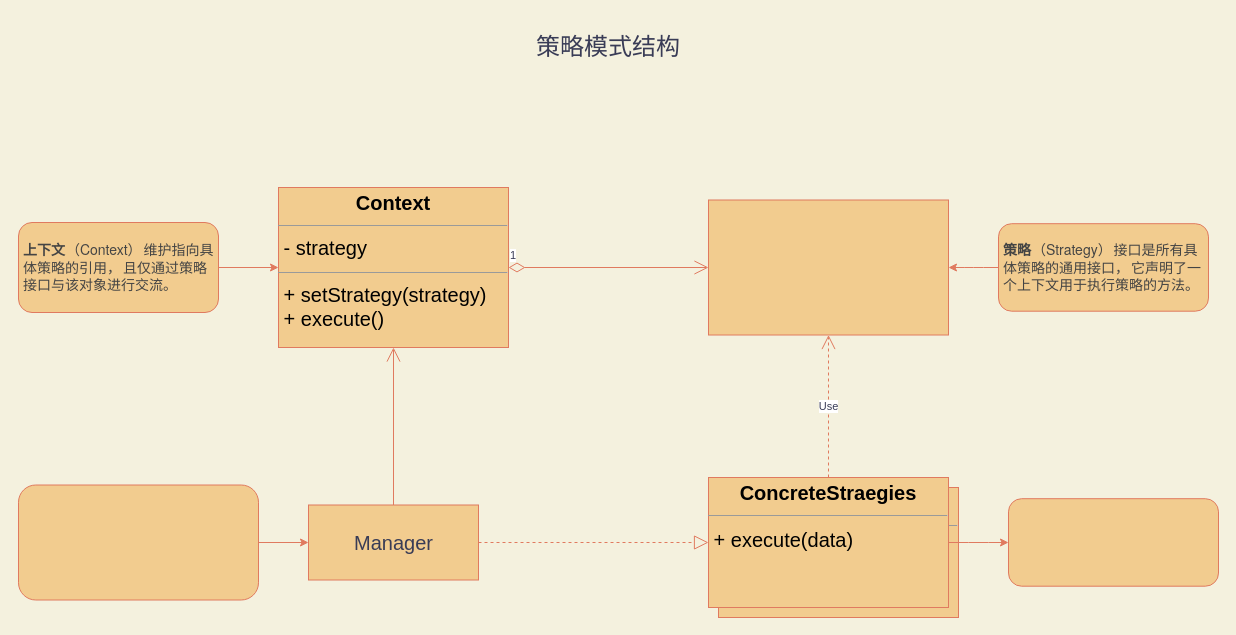
Some shapes in this 1236 by 635 pixel diagram are drawn without their labels. The shapes that lost their labels are listed below. From the top down, each one's centre as x and y in pixels, then its label:
At pixel 828 267: "<<Interface>> Strategy + execute(data)".
At pixel 138 542: "管理类 （Manager ） 会创建一个特定策略对象并将其传递给上下文 。 上下文则会提供一个设置器以便客户端在运行时替换相关联的策略 。".
At pixel 1113 542: "具体策略 （ Concrete Strategies ） 实现了上下文所用算法的各种不同变体 。".
